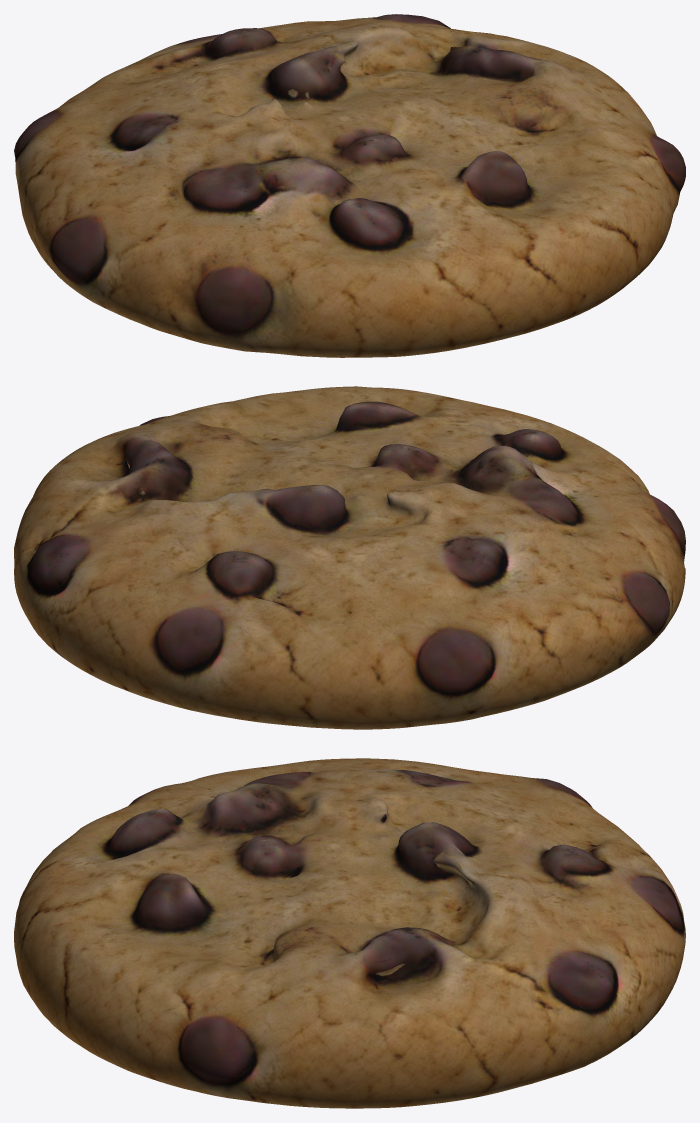
The model's file is cookies.fbx.
3 views of the same model, one above another, from view 1: azimuth 30°, elevation 25°; view 2: azimuth 150°, elevation 25°; view 3: azimuth 270°, elevation 25° (orthographic). The views are drawn at different scales.
Parts seen in each view (by area): view 1: mesh; view 2: mesh; view 3: mesh.
Boxes of the visible parts, left/top/right/bottom form: mesh: left=14, top=14, right=685, bottom=357; mesh: left=14, top=386, right=685, bottom=729; mesh: left=14, top=758, right=685, bottom=1108.
Bounding box in the file's own units: 99.88 × 28.25 × 96.65.
